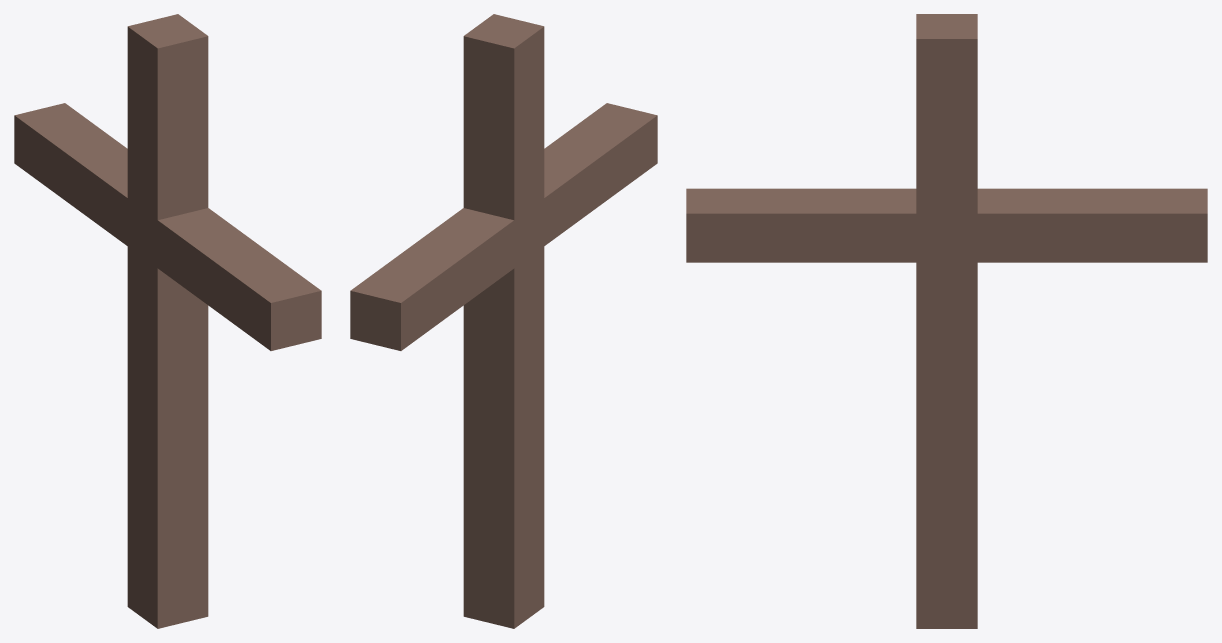
Rendered from cross.fbx.
3 renders of one model, left to right at view 1: azimuth 30°, elevation 25°; view 2: azimuth 150°, elevation 25°; view 3: azimuth 270°, elevation 25°, orthographic.
Visible parts, largest first — view 1: Cube.030; view 2: Cube.030; view 3: Cube.030.
Boxes of the visible parts, bbox=[...] form: Cube.030: bbox=[14, 14, 321, 628]; Cube.030: bbox=[350, 14, 657, 628]; Cube.030: bbox=[686, 14, 1207, 628].
Bounding box in the file's own units: 21.52 × 236 × 189.
